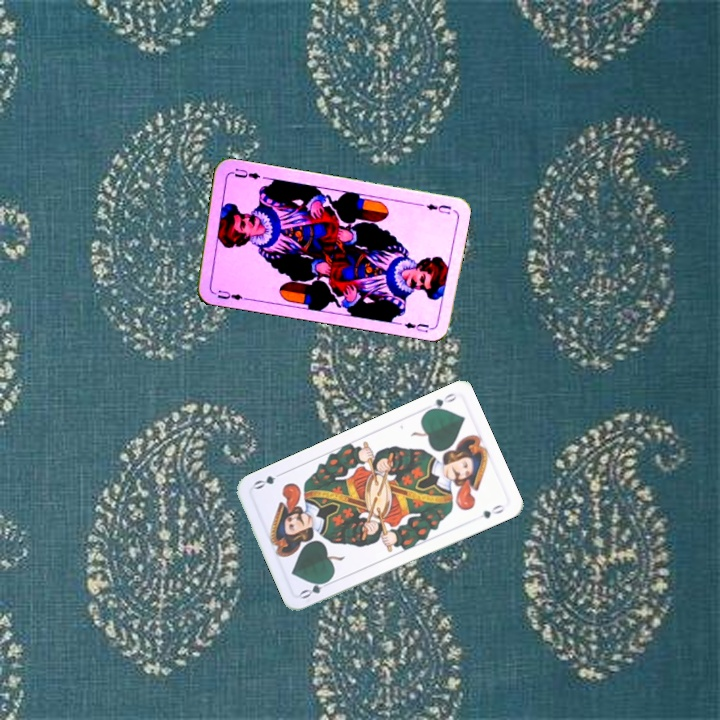EU: (213, 286, 249, 303), (422, 200, 454, 217)
GO: (296, 574, 335, 602), (422, 389, 459, 416)
